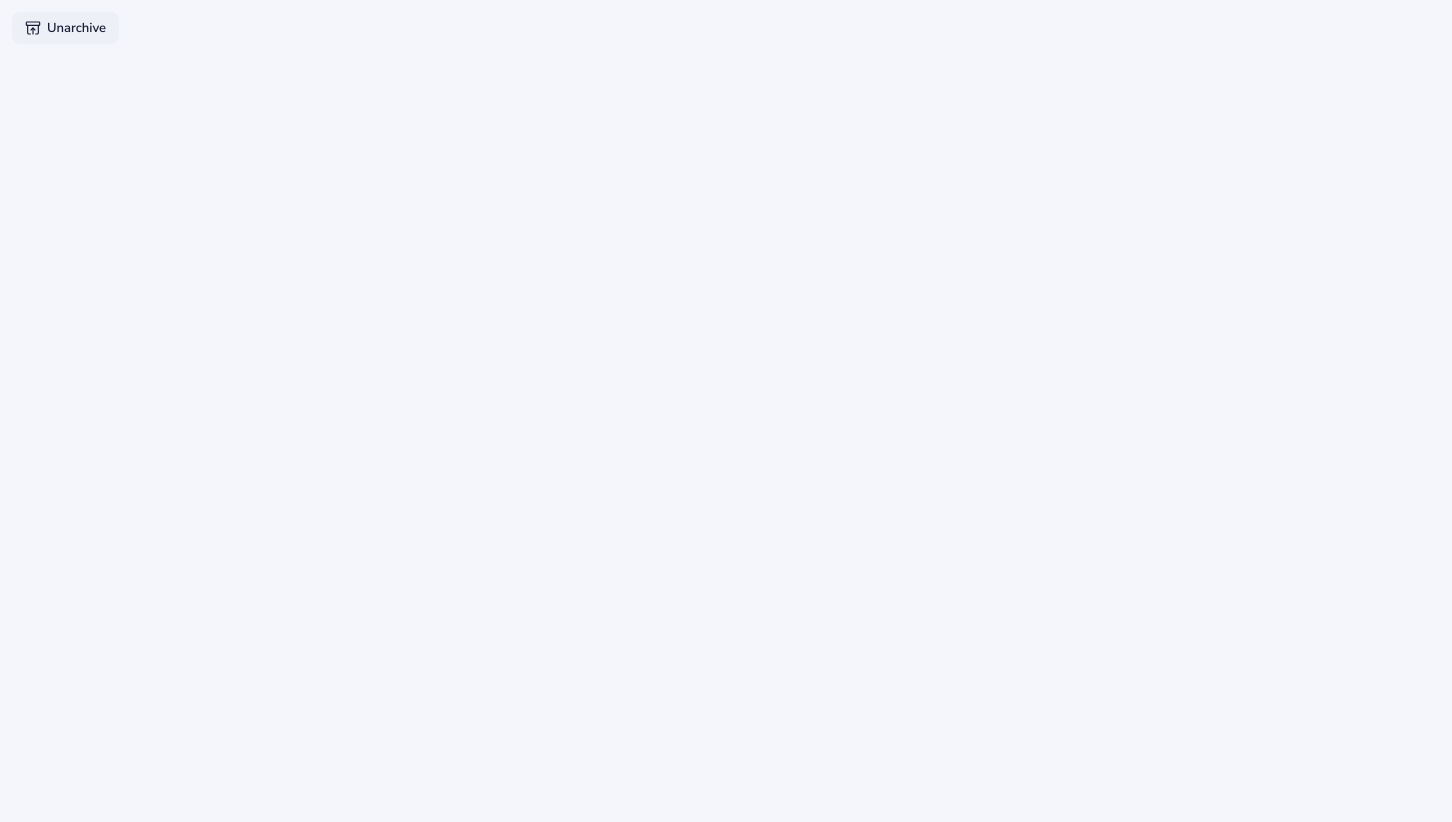
Test: DriverActions › an archived driver › unarchives with an idempotency key and says so
Click the button "Unarchive" at (66, 28), box [12,12,119,44]
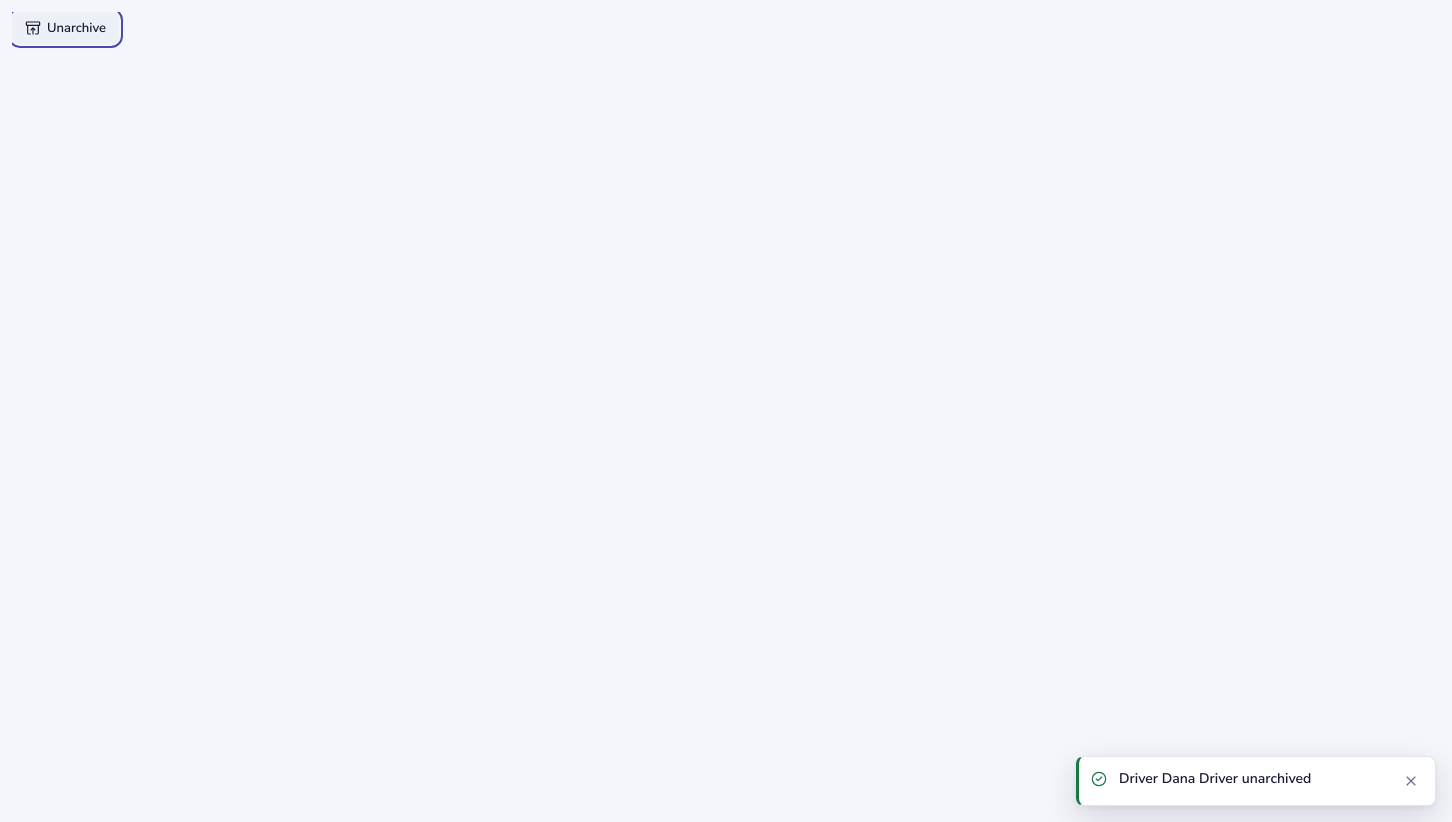
Result: the text "Driver Dana Driver unarchived" is shown at [1119,769,1311,788]
